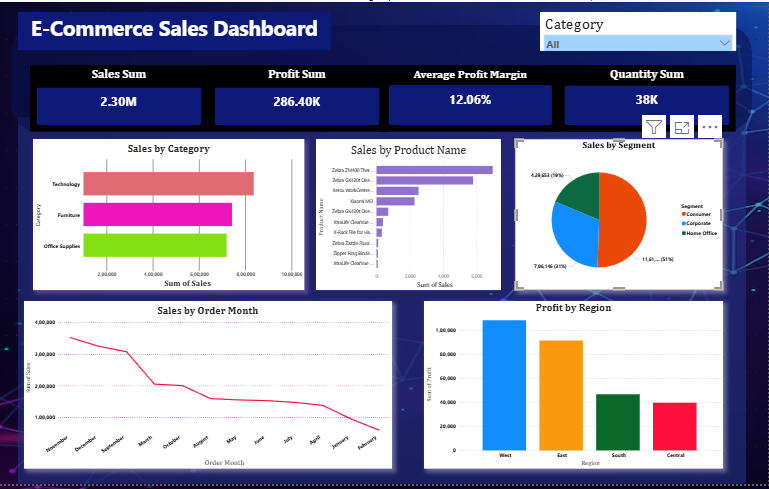

This screenshot's page, from the dashboard's own definition file:
{"tool":"powerbi","page":{"name":"Page 1","canvas":[2000,1250],"ordinal":0},"visuals":[{"type":"shape","box":[53.6,299.3,1888.9,951.5],"z":0},{"type":"shape","box":[37.3,58.7,1922.7,277.3],"z":1000},{"type":"cardVisual","title":"Sales Sum","fields":{"Data":["Sum(Ecommerce_Sales_Analysis.Sales)"]},"box":[85.3,162.7,461.3,173.3],"z":2000},{"type":"cardVisual","title":"Profit Sum","fields":{"Data":["Sum(Ecommerce_Sales_Analysis.Profit)"]},"box":[546.7,162.7,461.3,173.3],"z":3000},{"type":"cardVisual","title":"Average Profit Margin","fields":{"Data":["Avg(Ecommerce_Sales_Analysis.Profit Margin)"]},"box":[1000,162.7,458.7,173.3],"z":4000},{"type":"cardVisual","title":"Quantity Sum","fields":{"Data":["Sum(Ecommerce_Sales_Analysis.Quantity)"]},"box":[1456,162.7,461.3,173.3],"z":5000},{"type":"pieChart","title":" Sales by Segment","fields":{"Y":["Sum(Ecommerce_Sales_Analysis.Sales)"],"Category":["Ecommerce_Sales_Analysis.Segment"]},"box":[1344,354.7,538.7,392],"z":6000},{"type":"clusteredBarChart","title":" Sales by Category","fields":{"Category":["Ecommerce_Sales_Analysis.Category"],"Y":["Sum(Ecommerce_Sales_Analysis.Sales)"]},"box":[93.3,354.7,704,392],"z":7000},{"type":"lineChart","title":"Sales by Order Month","fields":{"Category":["Ecommerce_Sales_Analysis.Order Month"],"Y":["Sum(Ecommerce_Sales_Analysis.Sales)"]},"box":[69.3,776,954.7,434.7],"z":8000},{"type":"columnChart","title":"Profit by Region","fields":{"Y":["Sum(Ecommerce_Sales_Analysis.Profit)"],"Category":["Ecommerce_Sales_Analysis.Region"]},"box":[1106.7,776,776,434.7],"z":9000},{"type":"barChart","title":"Sales by Product Name","fields":{"Category":["Ecommerce_Sales_Analysis.Product Name"],"Y":["Sum(Ecommerce_Sales_Analysis.Sales)"]},"box":[826.7,354.7,480,392],"z":10000},{"type":"textbox","box":[53.3,26.7,810.7,98.7],"z":11000},{"type":"slicer","fields":{"Values":["Ecommerce_Sales_Analysis.Category"]},"box":[1408,26.7,509.3,101.3],"z":12000}]}

Visuals, with their boxes in screenshot pixels (x1, y1, x2, y2), scaled from the page's 2000x1250 canvas onto the 769x489 screenshot:
shape: rect(21, 117, 747, 488)
shape: rect(14, 23, 754, 131)
"Sales Sum" cardVisual: rect(33, 64, 210, 131)
"Profit Sum" cardVisual: rect(210, 64, 388, 131)
"Average Profit Margin" cardVisual: rect(384, 64, 561, 131)
"Quantity Sum" cardVisual: rect(560, 64, 737, 131)
" Sales by Segment" pieChart: rect(517, 139, 724, 292)
" Sales by Category" clusteredBarChart: rect(36, 139, 307, 292)
"Sales by Order Month" lineChart: rect(27, 304, 394, 474)
"Profit by Region" columnChart: rect(426, 304, 724, 474)
"Sales by Product Name" barChart: rect(318, 139, 502, 292)
textbox: rect(20, 10, 332, 49)
slicer - Ecommerce_Sales_Analysis.Category: rect(541, 10, 737, 50)
